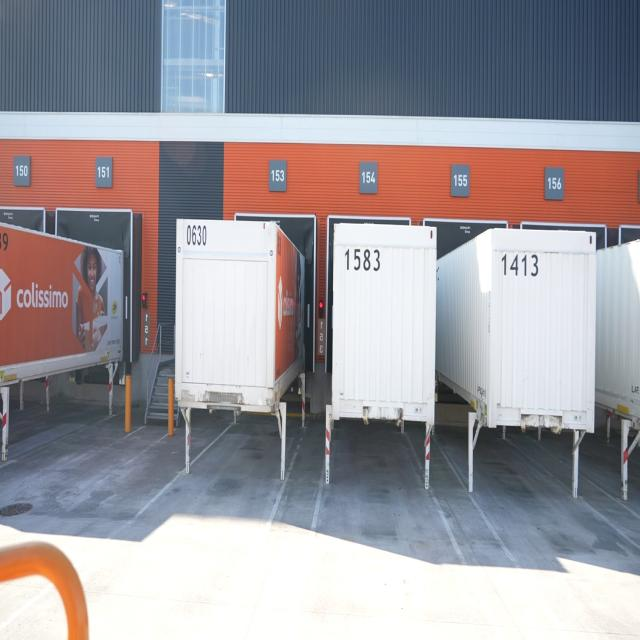Code: (498, 247, 540, 283), (342, 243, 382, 279), (184, 220, 210, 251)
